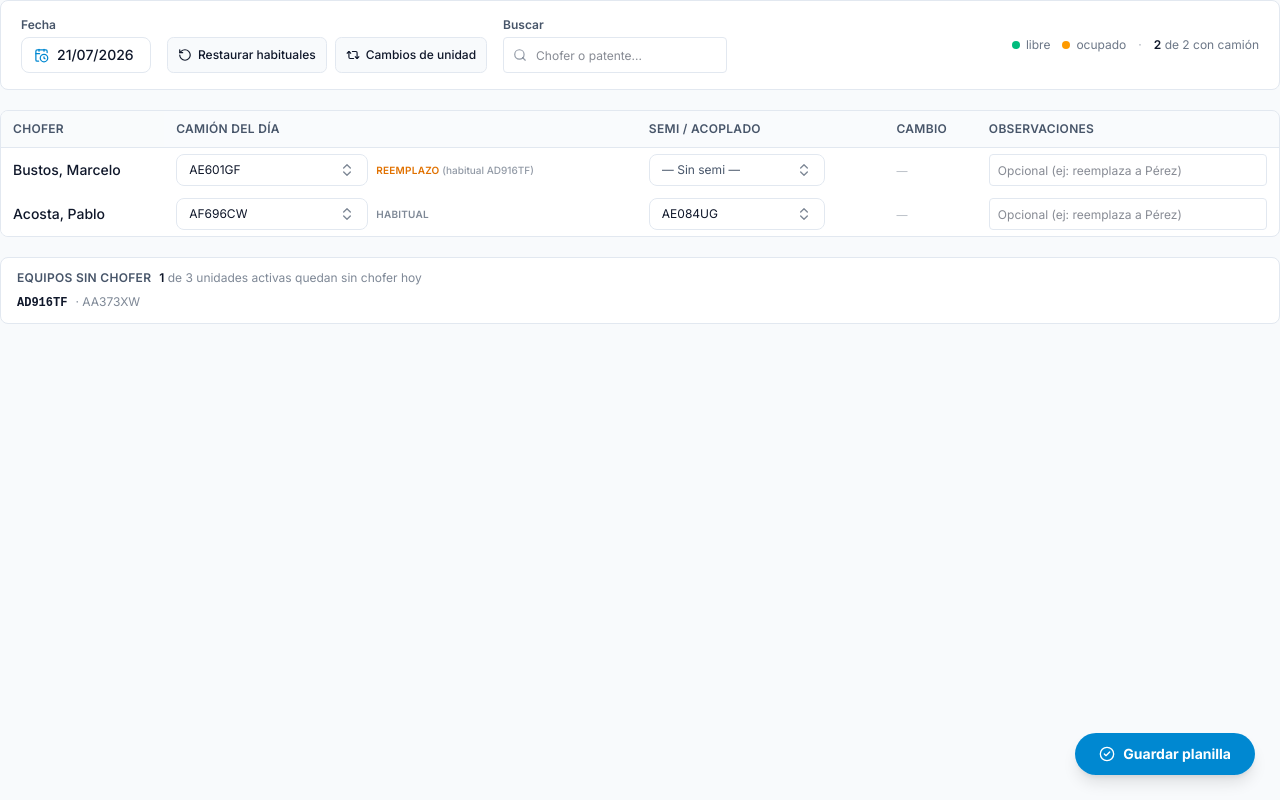
Test: PlanillaDiariaClient · buscador › dice qué se buscó cuando no hay coincidencias
The image size is (1280, 800).
Type "zzz" into the search field labelled "Buscar" at (615, 55), box x1=503 y1=37 x2=727 y2=73
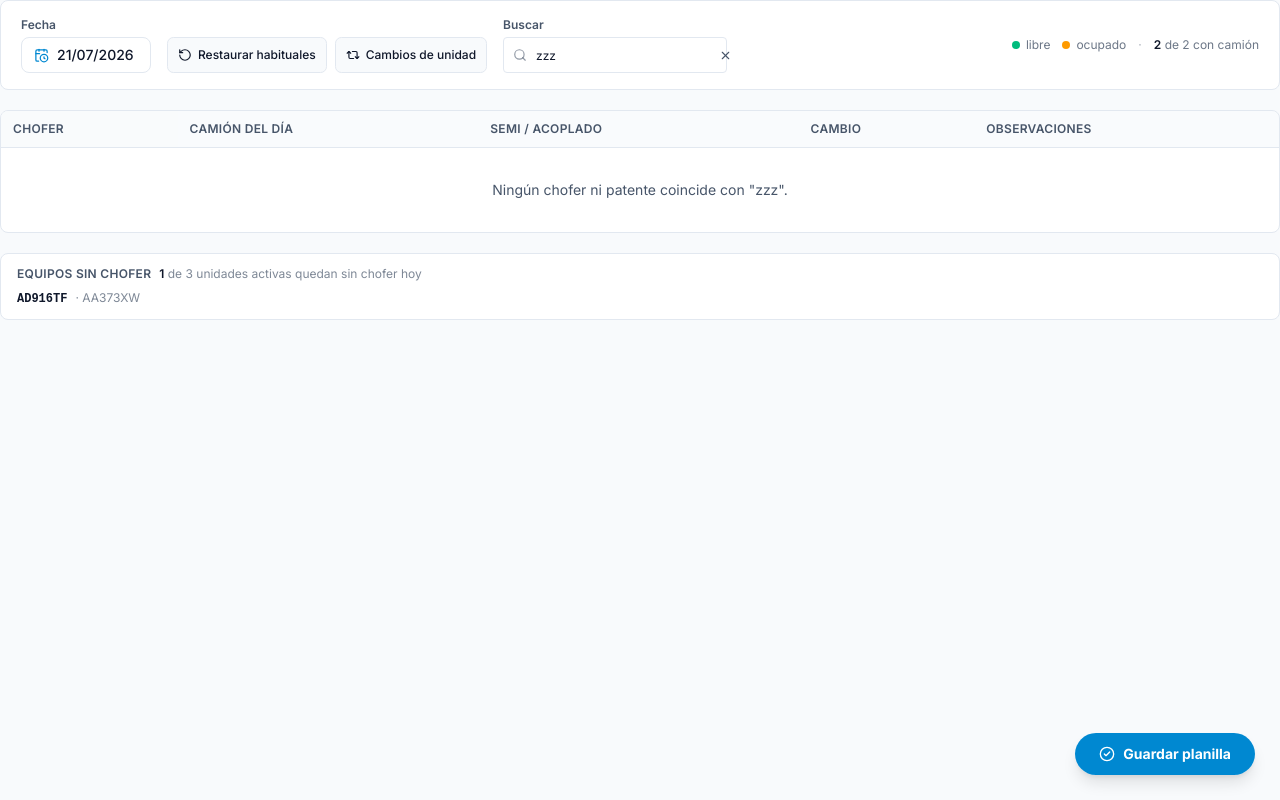
Expected: the text "Ningún chofer ni patente coincide con \"zzz\"." is shown, x1=1 y1=148 x2=1279 y2=232
